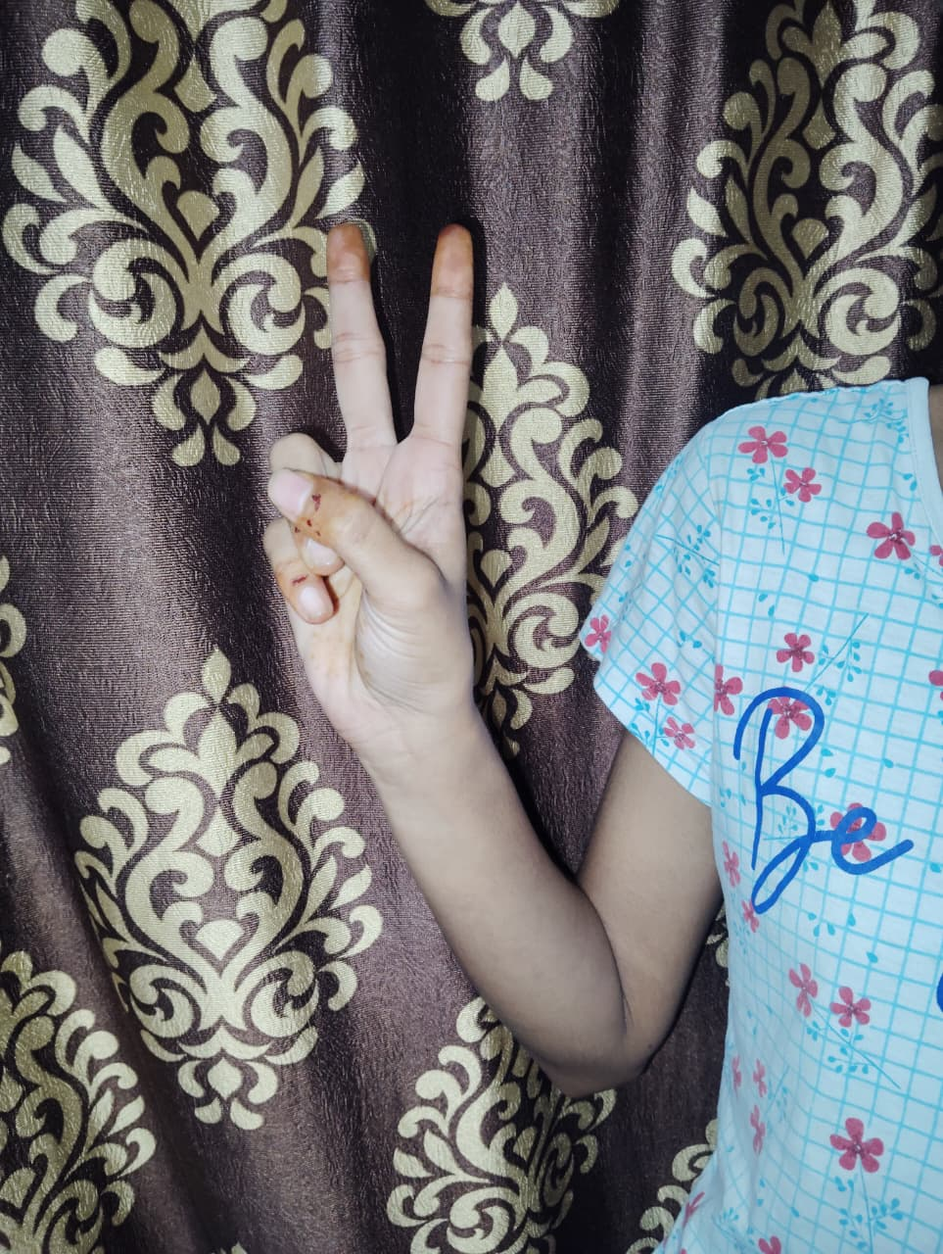V: (266, 224, 468, 719)
